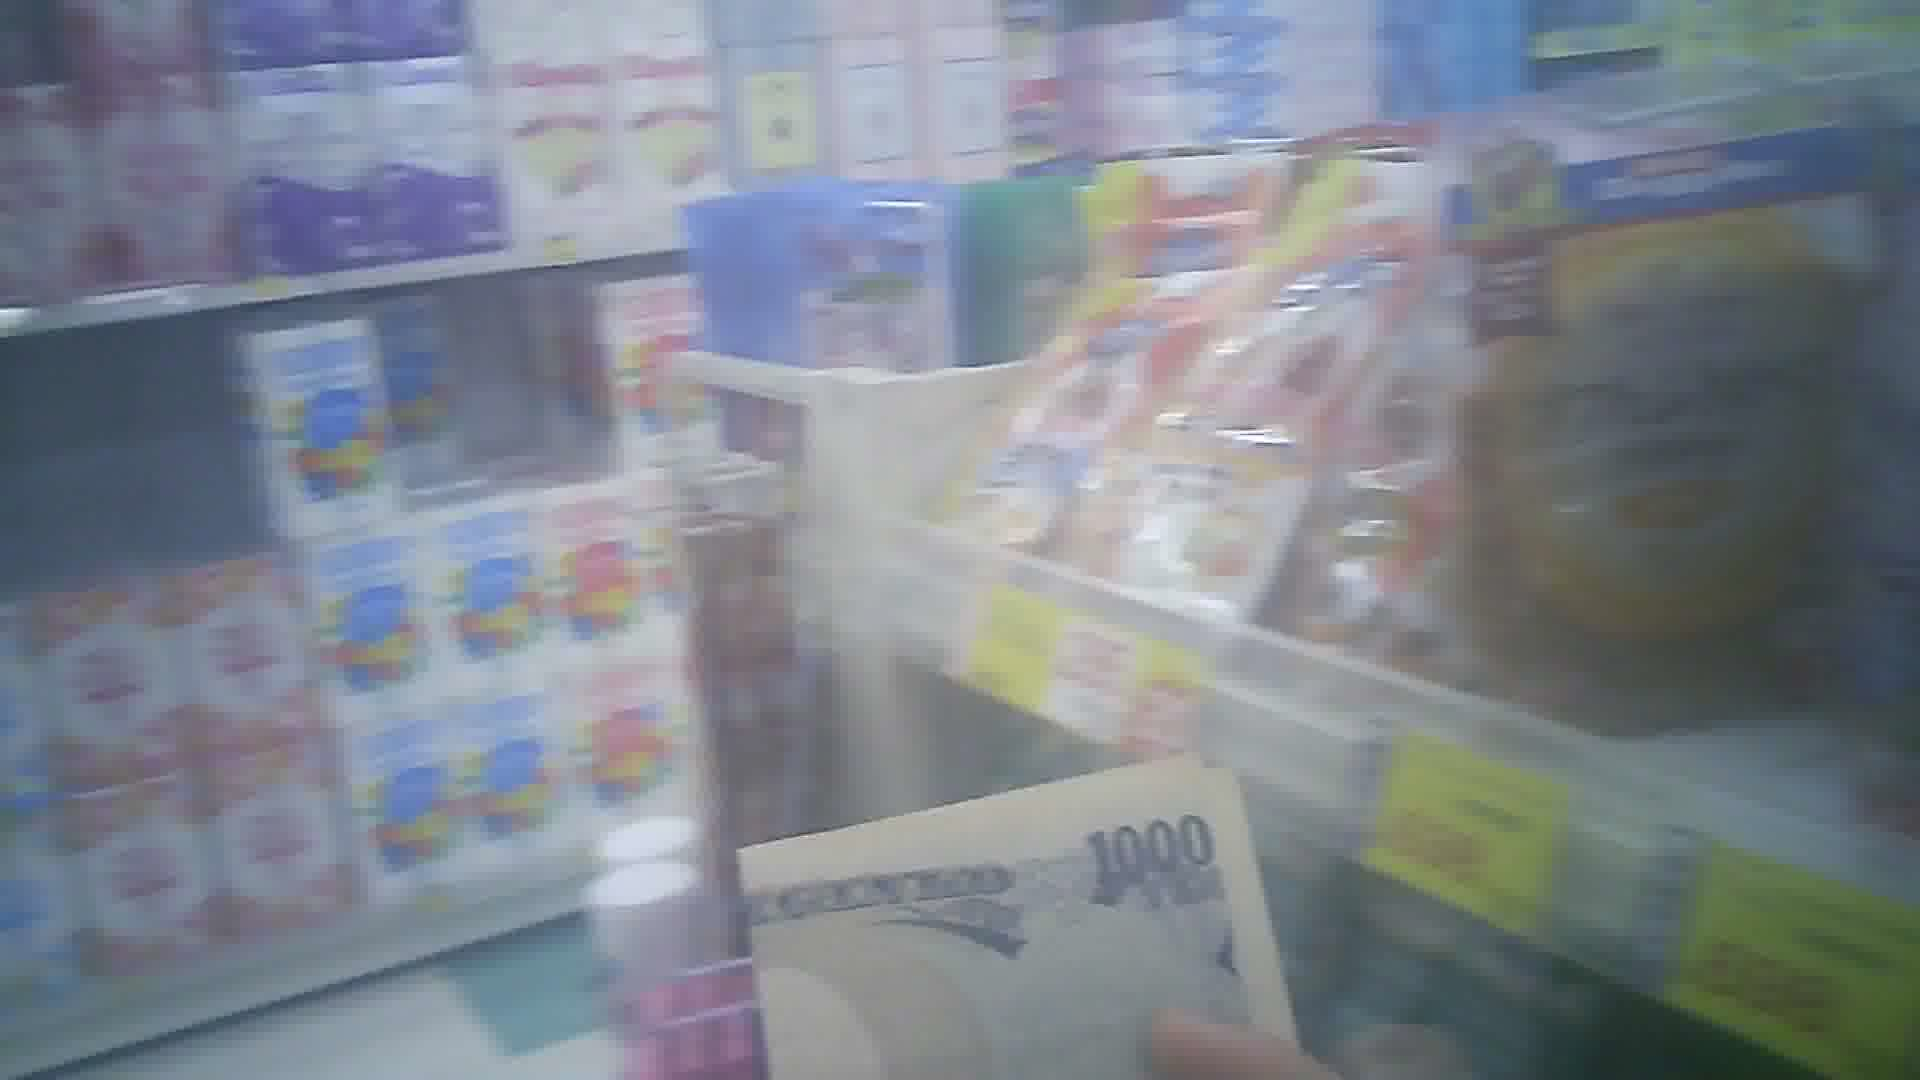1,000 Yen: (731, 756, 1305, 1064)
